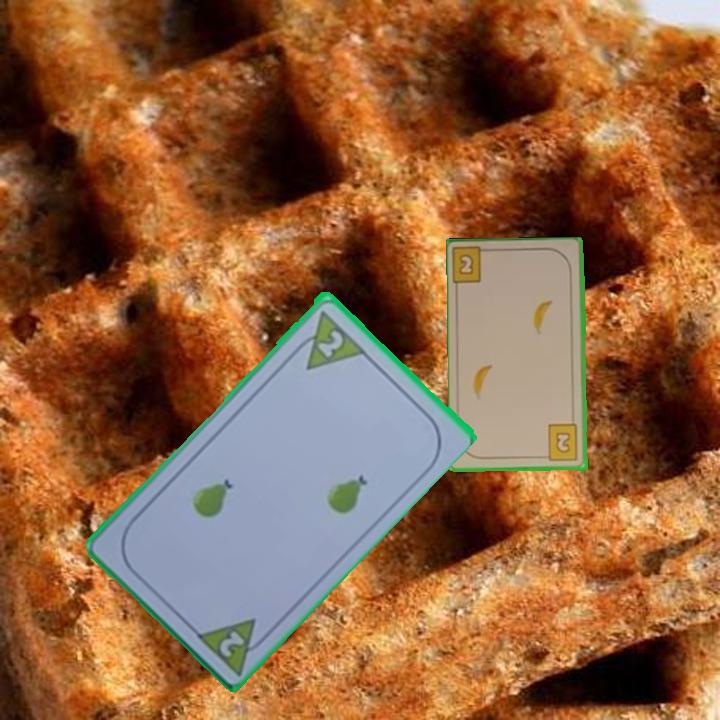2b: (451, 246, 495, 288), (539, 422, 581, 464)
2p: (288, 305, 367, 373), (191, 613, 274, 677)
